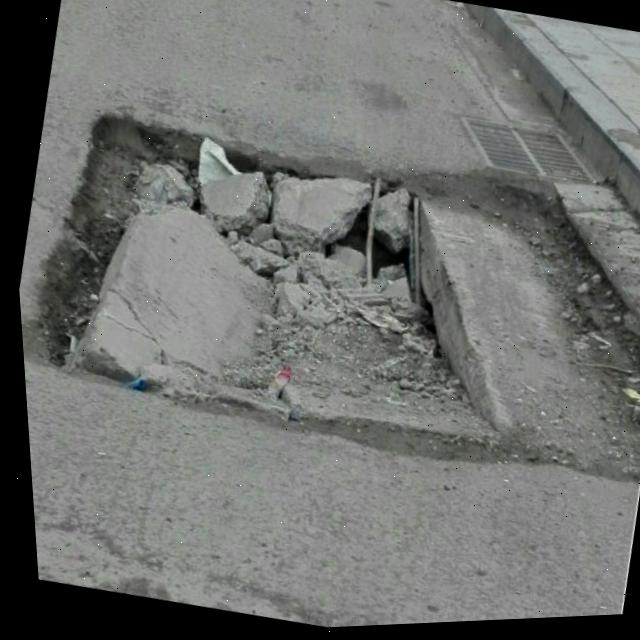manhole: (5, 74, 565, 487)
